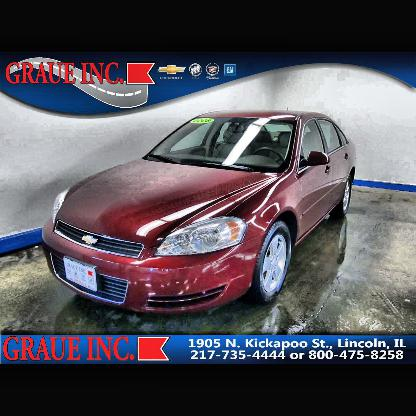Chevrolet Impala Sedan 2007: (41, 111, 359, 320)
